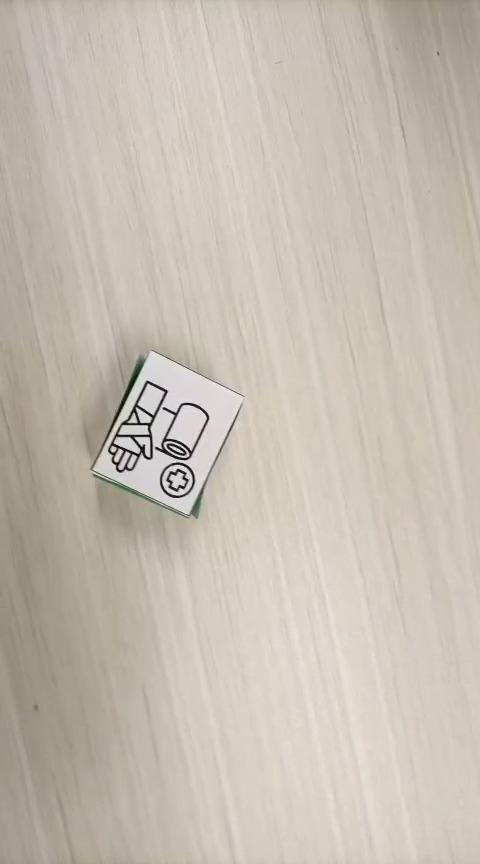Bandages: (88, 348, 244, 518)
